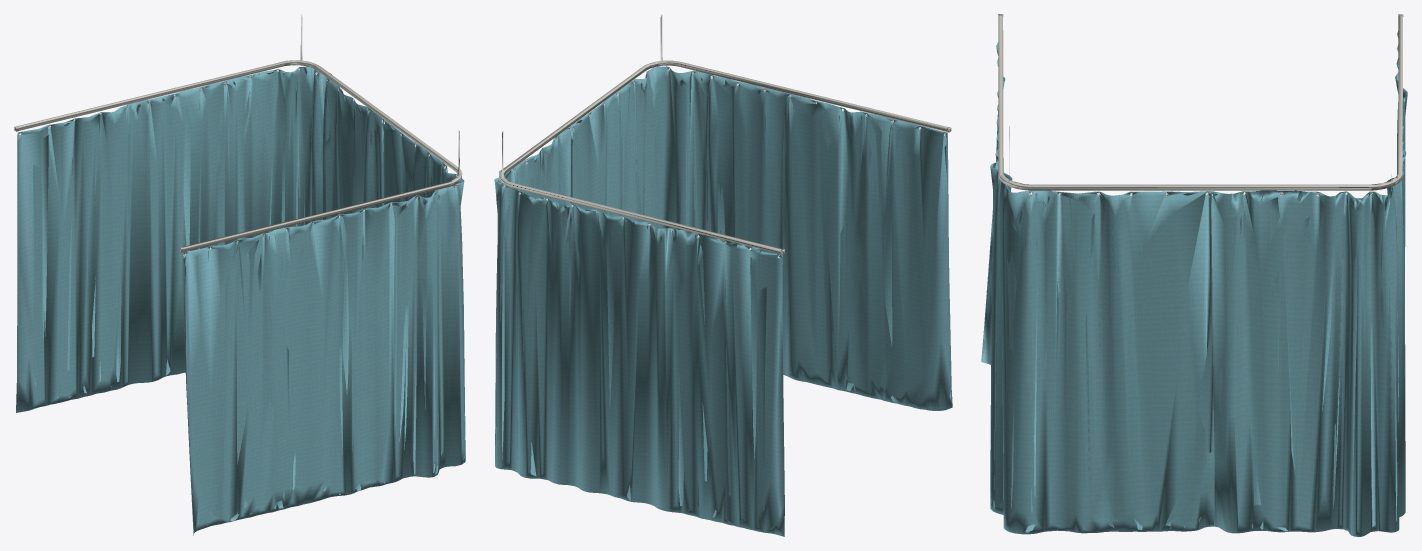
File: curtain.glb
The picture shows the model from 3 angles, left to right: view 1: azimuth 30°, elevation 25°; view 2: azimuth 150°, elevation 25°; view 3: azimuth 270°, elevation 25°; orthographic projection. The views are drawn at different scales.
Visible parts, largest first — view 1: body; view 2: body; view 3: body.
Part boxes in pixels (x1,y1,x2,y2): body: (14, 14, 465, 535); body: (494, 14, 952, 536); body: (981, 14, 1407, 536).
Bounding box in the file's own units: 3.23 × 3.45 × 3.3.
Materials: 3 (2 with a texture image).
